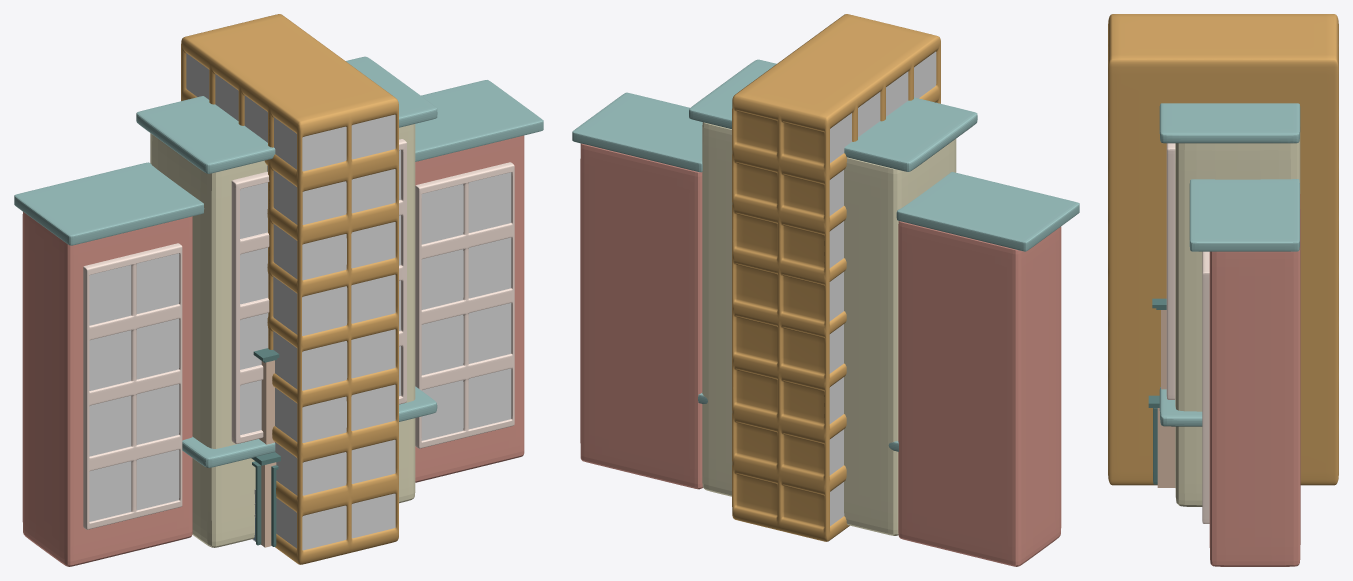
The model's file is tree_2.fbx.
3 views of the same model, side by side, from view 1: azimuth 30°, elevation 25°; view 2: azimuth 150°, elevation 25°; view 3: azimuth 270°, elevation 25° (orthographic). The views are drawn at different scales.
Parts seen in each view (by area): view 1: 立方体.017, 立方体.022, 平面.017, 平面.015, 立方体.018, 立方体.020, 立方体.023, 平面.016, 立方体.019, 立方体.024, 平面.018, 立方体 (+1 smaller); view 2: 立方体.022, 立方体.017, 立方体.018, 立方体.023, 立方体.019, 平面.016; view 3: 立方体.017, 立方体.022, 立方体.018, 立方体.023, 立方体.019, 立方体.024, 立方体.020, 立方体, 立方体.021, 立方体.006.
Part boxes in pixels (box(x1,y1,x2,y2)): 立方体.017: box(181, 14, 398, 564); 立方体.022: box(22, 135, 524, 566); 平面.017: box(89, 172, 511, 521); 平面.015: box(302, 114, 395, 550); 立方体.018: box(150, 124, 415, 547); 立方体.020: box(83, 162, 514, 529); 立方体.023: box(14, 80, 543, 245); 平面.016: box(186, 53, 297, 548); 立方体.019: box(136, 56, 437, 173); 立方体.024: box(231, 139, 406, 443); 平面.018: box(240, 150, 400, 434); 立方体: box(251, 348, 280, 547); 立方体.022: box(580, 143, 1061, 566); 立方体.017: box(732, 14, 940, 541); 立方体.018: box(702, 122, 956, 535); 立方体.023: box(572, 92, 1079, 251); 立方体.019: box(689, 59, 977, 171); 平面.016: box(829, 51, 936, 525); 立方体.017: box(1108, 14, 1338, 485); 立方体.022: box(1209, 194, 1300, 566); 立方体.018: box(1175, 132, 1300, 506); 立方体.023: box(1189, 179, 1299, 251); 立方体.019: box(1159, 103, 1300, 143); 立方体.024: box(1166, 143, 1175, 399); 立方体.020: box(1202, 251, 1209, 523); 立方体: box(1148, 298, 1175, 487); 立方体.021: box(1159, 387, 1202, 426); 立方体.006: box(1153, 408, 1157, 484).
Bounding box in the file's own units: 1634 × 1457 × 714.
